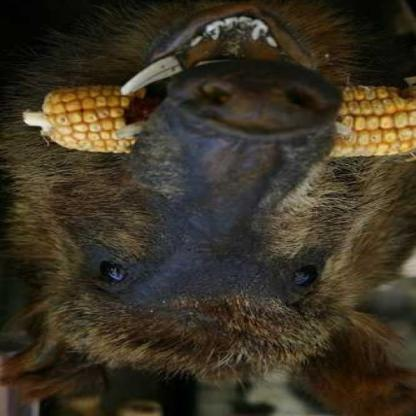boar: (16, 1, 415, 412)
